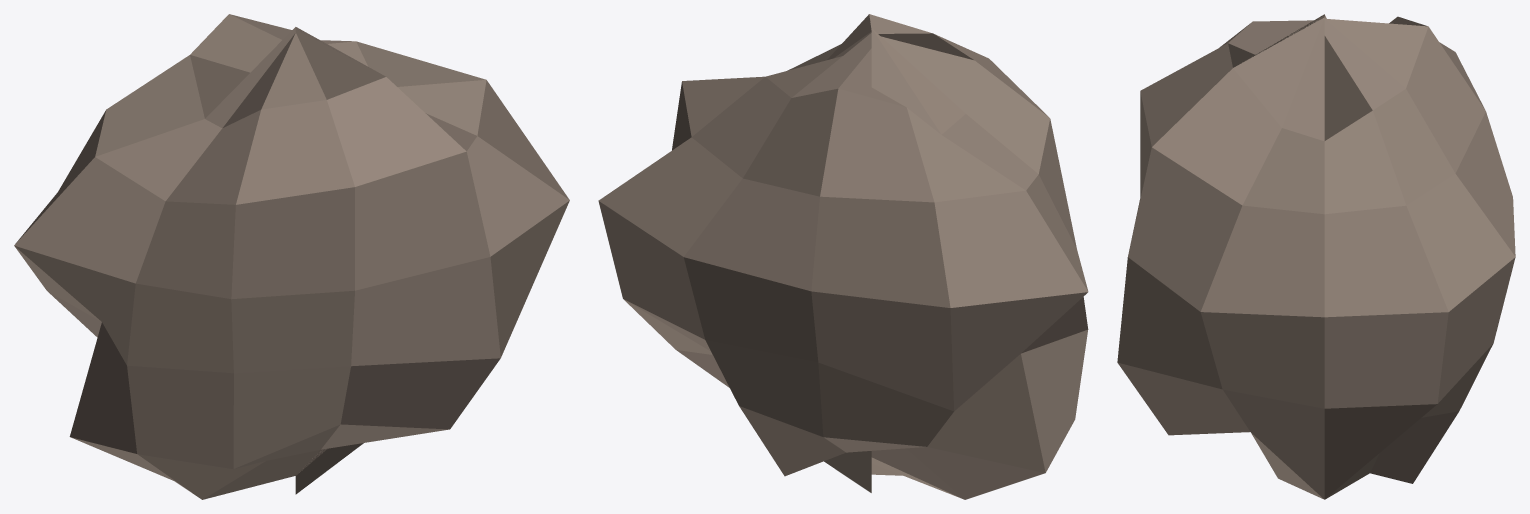
The model's file is Rock07.glb.
3 renders of one model, left to right at view 1: azimuth 30°, elevation 25°; view 2: azimuth 150°, elevation 25°; view 3: azimuth 270°, elevation 25°, orthographic. The views are drawn at different scales.
Visible parts, largest first — view 1: Rock07Hull; view 2: Rock07Hull; view 3: Rock07Hull.
Boxes of the visible parts, x1,y1,x2,y2 form: Rock07Hull: (14, 14, 569, 499); Rock07Hull: (598, 14, 1088, 499); Rock07Hull: (1117, 14, 1515, 499).
Bounding box in the file's own units: 1.98 × 1.9 × 1.41.
